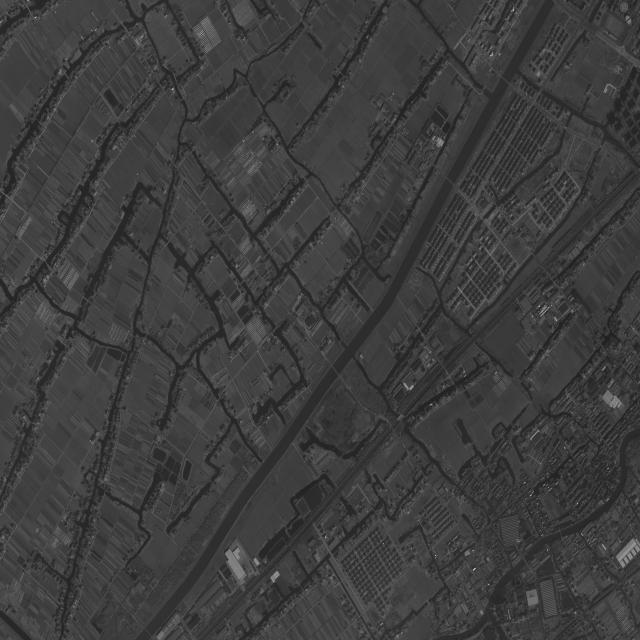ship: (268, 256, 272, 261)
